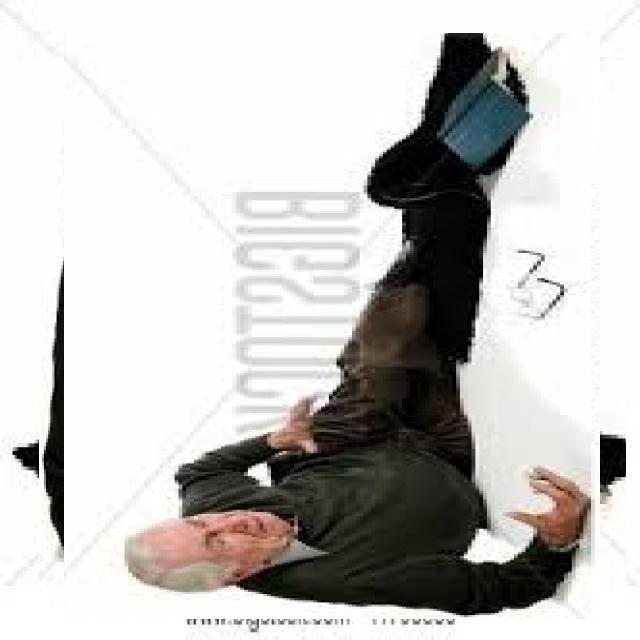Fall: (97, 9, 637, 630)
